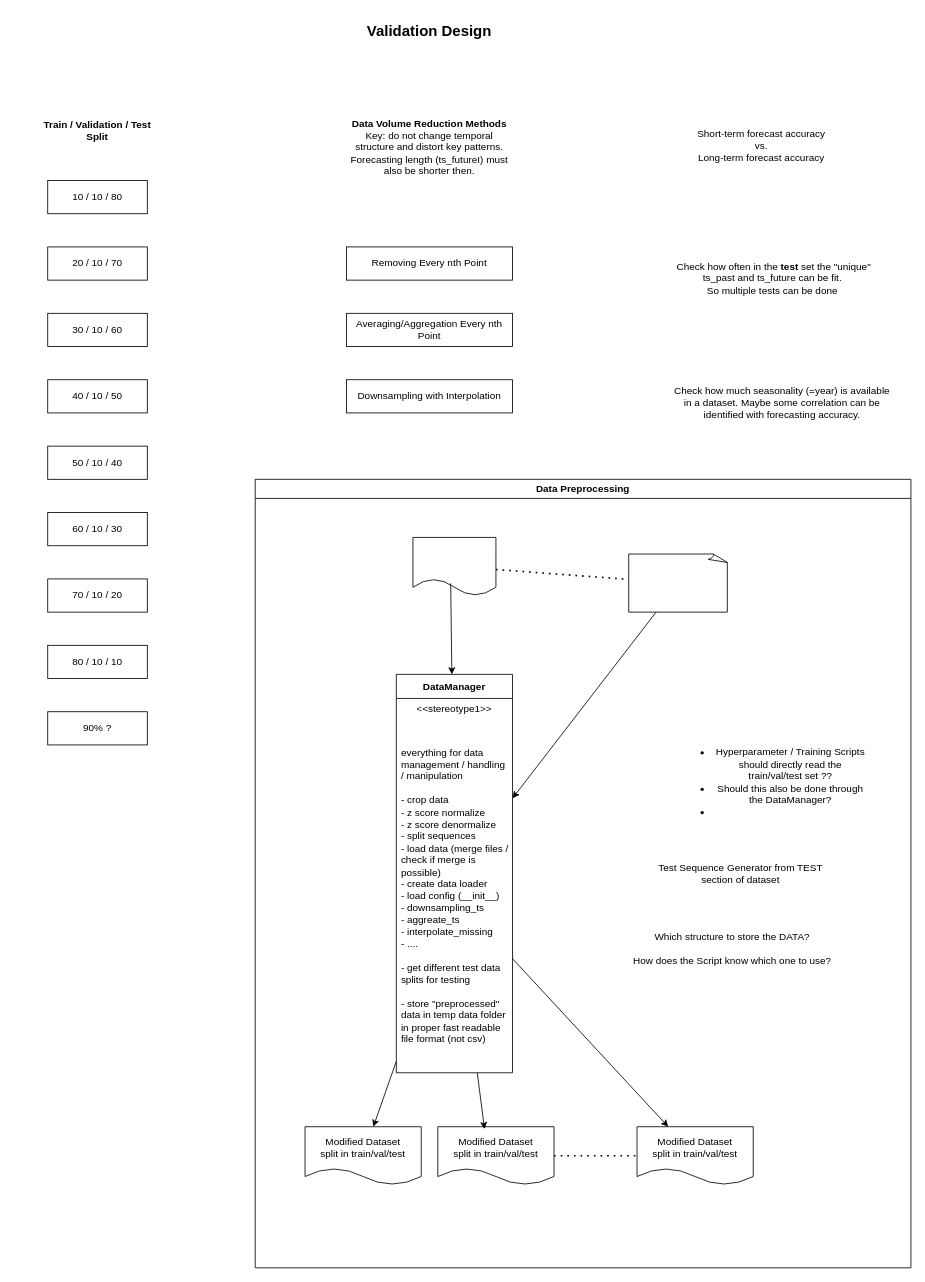
The diagram is 925 pixels wide and 1282 high, and some of its shapes have lost their labels. Here are the shapes that lost their labels. From the top down, the centre of each, then its label:
At point 454,566: "DATASET".
At point 678,582: "config for data file".
